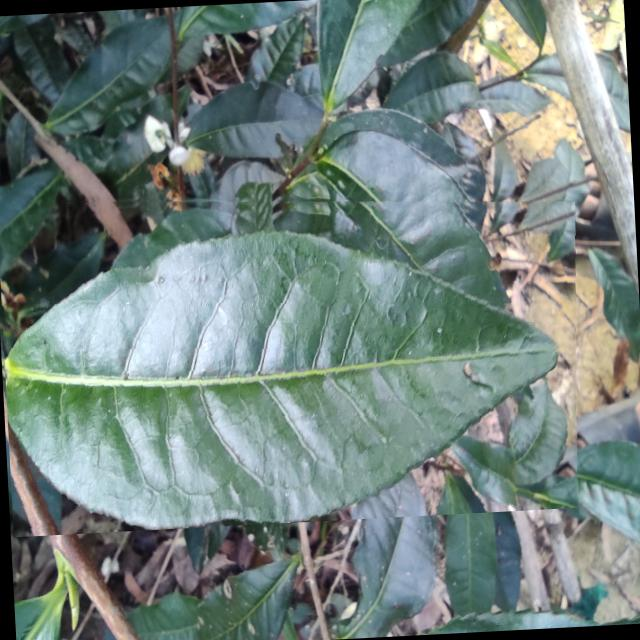Category D(7+ days, Not for Tea): (0, 172, 591, 538)
